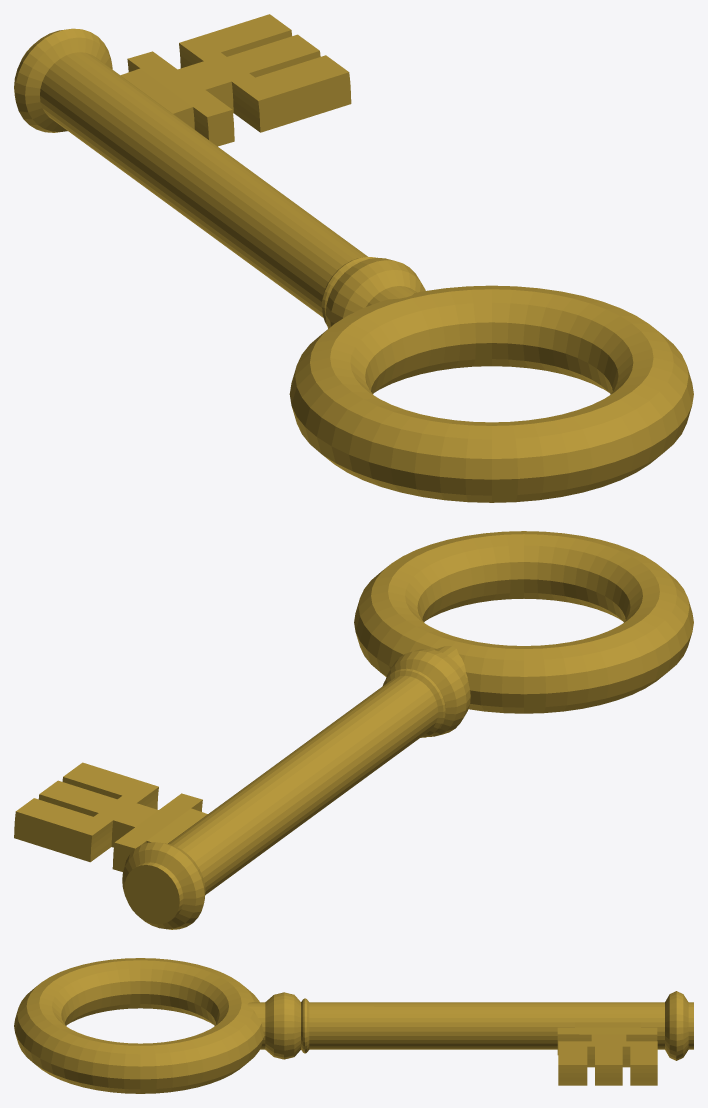
File: key.glb
3 renders of one model, top to bottom at view 1: azimuth 30°, elevation 25°; view 2: azimuth 150°, elevation 25°; view 3: azimuth 270°, elevation 25°, orthographic. The views are drawn at different scales.
Visible parts, largest first — view 1: Key; view 2: Key; view 3: Key.
Part boxes in pixels (left/top/right/bottom): Key: left=14, top=14, right=693, bottom=502; Key: left=14, top=531, right=693, bottom=929; Key: left=14, top=958, right=693, bottom=1093.
Size of the model in its own units: 0.3237 by 0.0853 by 0.8269.
